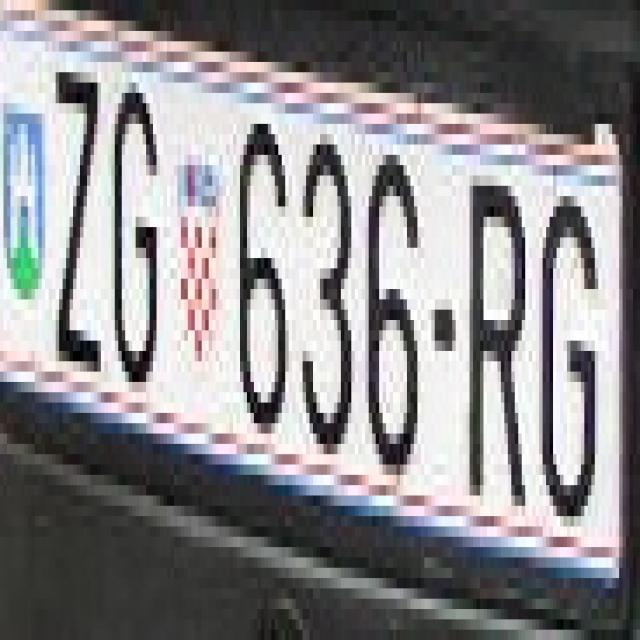3: (296, 113, 358, 454)
6: (358, 93, 428, 475), (230, 82, 292, 444)
G: (532, 165, 602, 527), (104, 62, 167, 413)
Z: (42, 52, 104, 382)
